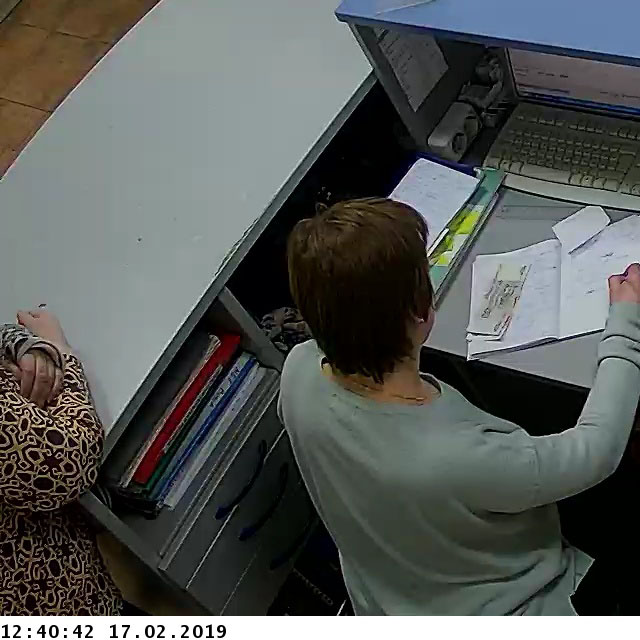banknotes: (468, 260, 532, 341)
